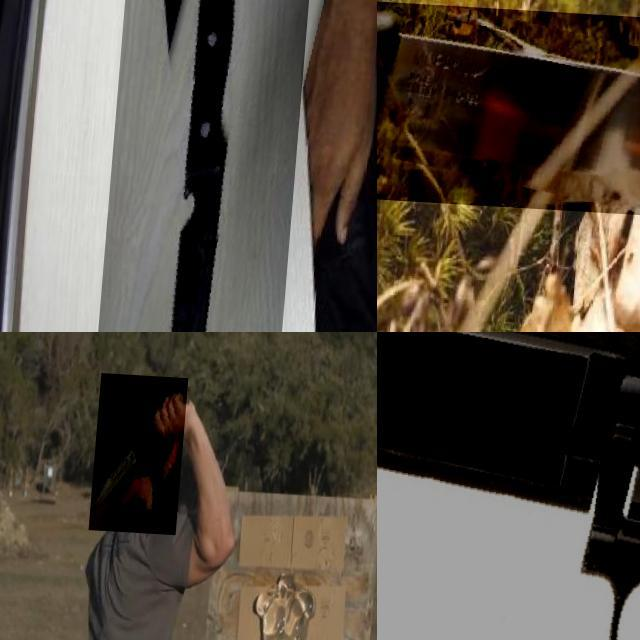-: (94, 0, 315, 332), (377, 0, 640, 216), (92, 370, 190, 532)
gun-knife-thesis - v11 Yolov5 augmented: (377, 332, 640, 640)
